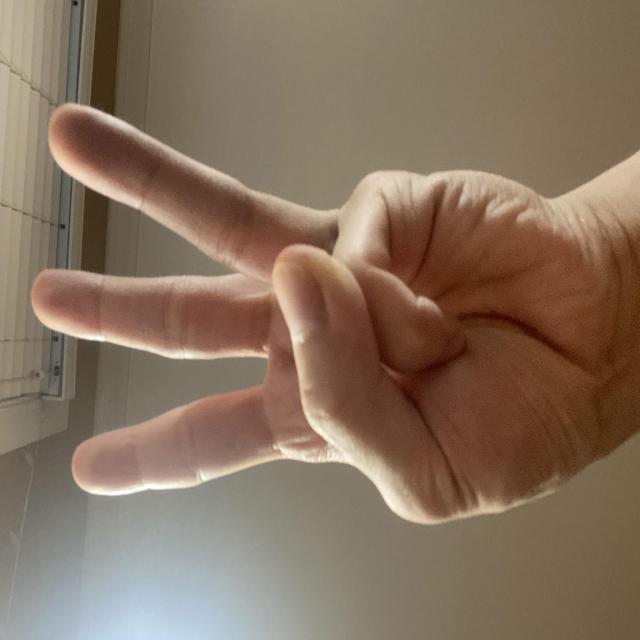W: (79, 29, 409, 640)
